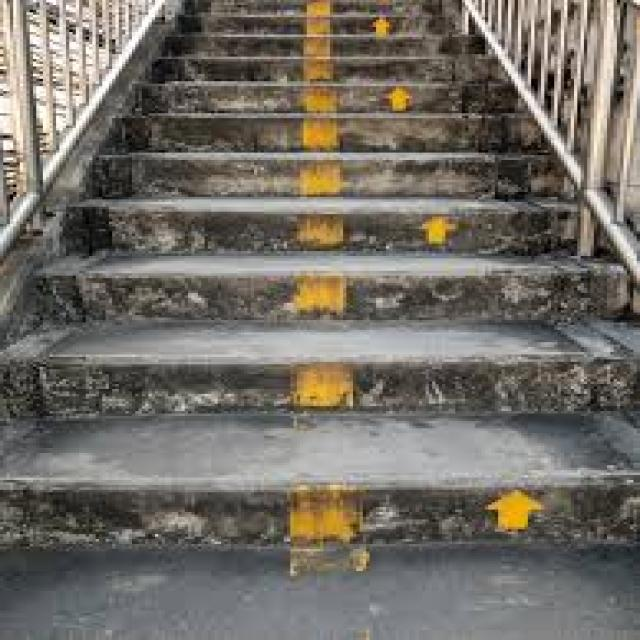upstair: (18, 1, 635, 560)
